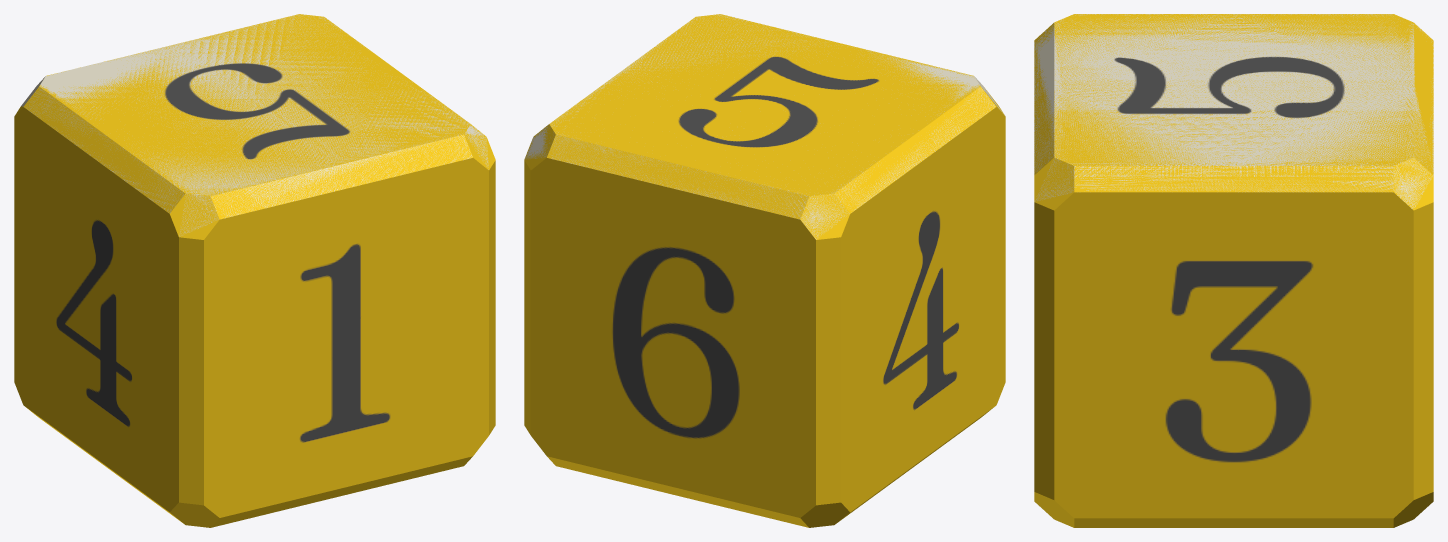
File: D6DisadvantageEmbossedRipple.glb
3 renders of one model, left to right at view 1: azimuth 30°, elevation 25°; view 2: azimuth 150°, elevation 25°; view 3: azimuth 270°, elevation 25°, orthographic. The views are drawn at different scales.
Parts seen in each view (by area): view 1: D6Gilded, D6Plain; view 2: D6Gilded, D6Plain; view 3: D6Gilded, D6Plain.
Part boxes in pixels (box(x1,y1,x2,y2)): D6Gilded: box(14, 14, 495, 527); D6Plain: box(21, 14, 488, 236); D6Gilded: box(524, 14, 1005, 527); D6Plain: box(525, 14, 1004, 239); D6Gilded: box(1034, 14, 1433, 527); D6Plain: box(1034, 14, 1433, 208).
Bounding box in the file's own units: 2 × 2 × 2.
Materials: 6 (6 with a texture image).
